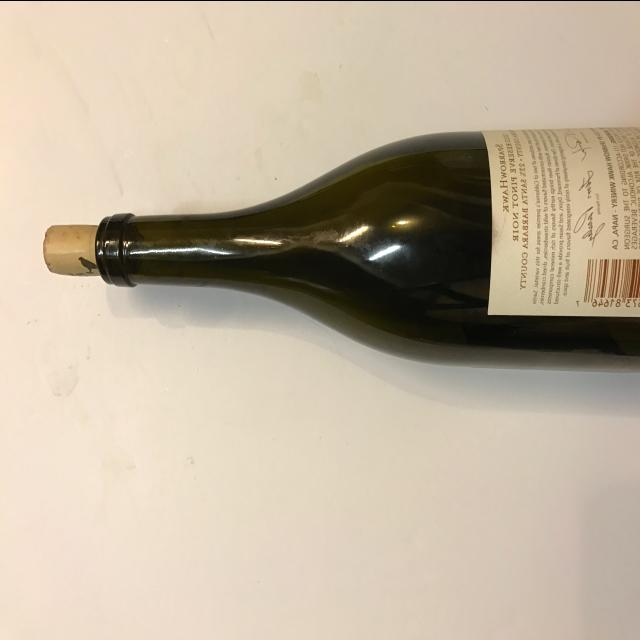Glass: (20, 113, 640, 375)
